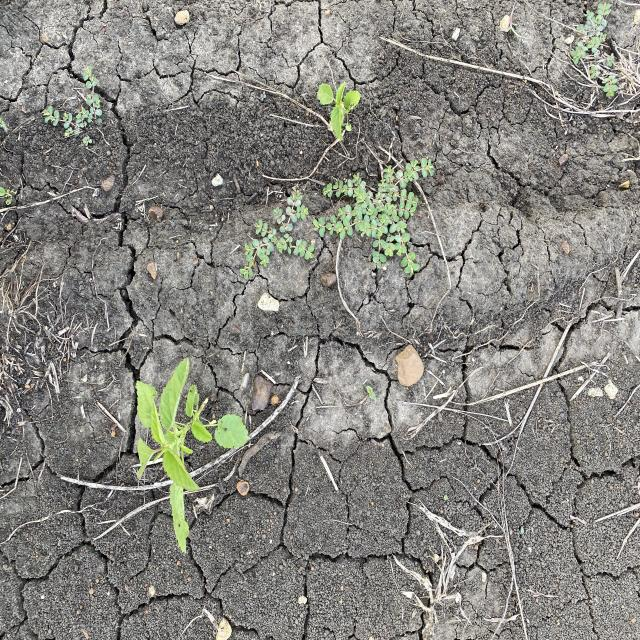PricklySida: (134, 354, 250, 558), (316, 79, 362, 144)
SpottedSpurge: (310, 158, 440, 278), (238, 185, 317, 282), (40, 64, 104, 148), (568, 1, 619, 98)
